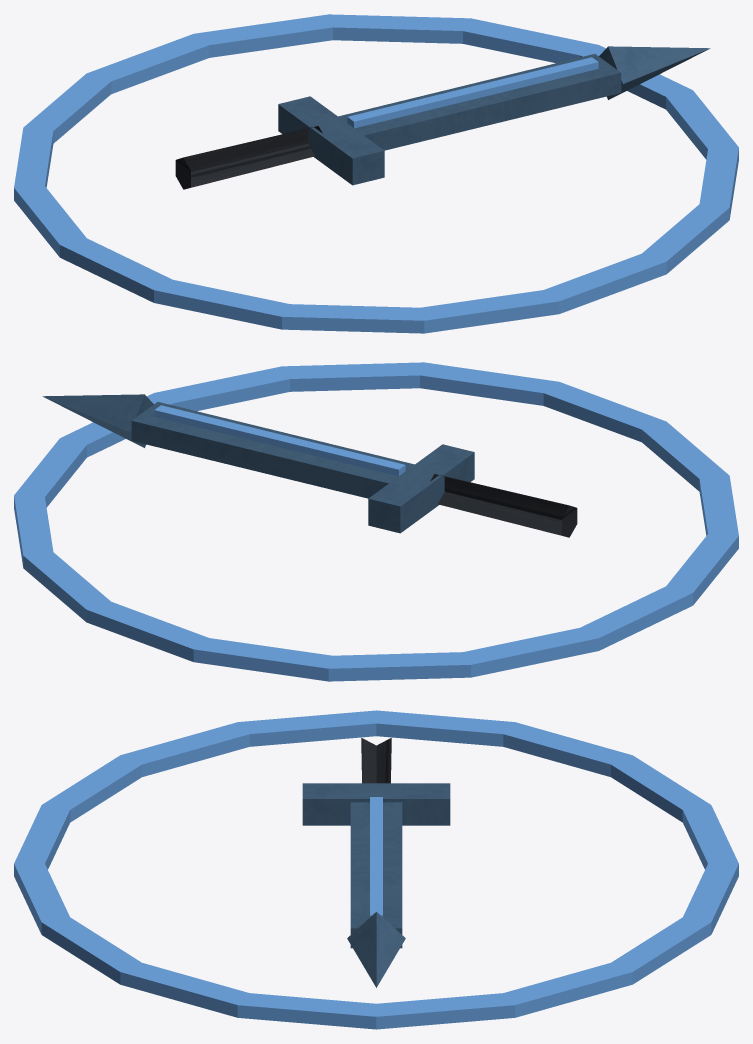
Rendered from loot_dagger_g1.glb.
3 renders of one model, top to bottom at view 1: azimuth 30°, elevation 25°; view 2: azimuth 150°, elevation 25°; view 3: azimuth 270°, elevation 25°, orthographic.
Parts seen in each view (by area): view 1: loot_dagger_g1; view 2: loot_dagger_g1; view 3: loot_dagger_g1.
Boxes of the visible parts, <box> form: loot_dagger_g1: <box>14,14,738,333</box>; loot_dagger_g1: <box>14,362,738,681</box>; loot_dagger_g1: <box>14,710,738,1029</box>.
Size of the model in its own units: 1.01 by 0.115 by 0.984.
Materials: 3 (3 with a texture image).
